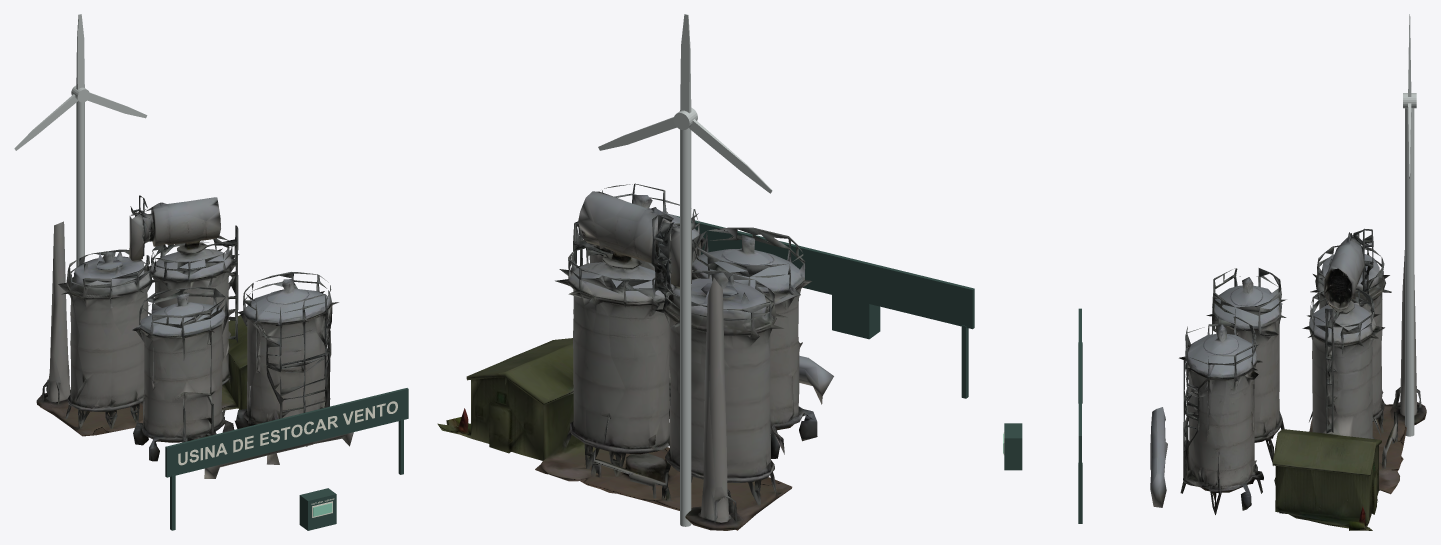
Rendered from secret-wind-plant.glb.
3 renders of one model, left to right at view 1: azimuth 30°, elevation 25°; view 2: azimuth 150°, elevation 25°; view 3: azimuth 270°, elevation 25°, orthographic. The views are drawn at different scales.
Parts seen in each view (by area): view 1: tripo_node_50a28d17-da4a-4947-9054-4a39b0f13449, Usina_Plate, Sign_USINA DE ESTOCAR VENTO, Wind_Mast, Capture_Console, Wind_Blade_0, Wind_Blade_2, Wind_Blade_1; view 2: tripo_node_50a28d17-da4a-4947-9054-4a39b0f13449, Usina_Plate, Wind_Mast, Capture_Console, Wind_Blade_2, Wind_Blade_0, Wind_Blade_1; view 3: tripo_node_50a28d17-da4a-4947-9054-4a39b0f13449, Wind_Mast, Capture_Console, Usina_Plate.
Boxes of the visible parts, x1,y1,x2,y2 form: tripo_node_50a28d17-da4a-4947-9054-4a39b0f13449: (36, 195, 353, 478); Usina_Plate: (165, 388, 408, 477); Sign_USINA DE ESTOCAR VENTO: (178, 401, 397, 465); Wind_Mast: (76, 101, 84, 267); Capture_Console: (299, 488, 336, 530); Wind_Blade_0: (76, 14, 84, 89); Wind_Blade_2: (14, 94, 77, 150); Wind_Blade_1: (87, 92, 147, 118); tripo_node_50a28d17-da4a-4947-9054-4a39b0f13449: (437, 183, 833, 530); Usina_Plate: (673, 215, 974, 329); Wind_Mast: (680, 128, 691, 526); Capture_Console: (832, 295, 880, 339); Wind_Blade_2: (689, 119, 772, 193); Wind_Blade_0: (680, 14, 691, 113); Wind_Blade_1: (598, 117, 676, 150); tripo_node_50a28d17-da4a-4947-9054-4a39b0f13449: (1150, 228, 1426, 530); Wind_Mast: (1405, 108, 1414, 436); Capture_Console: (1004, 423, 1022, 470); Usina_Plate: (1078, 308, 1081, 468).
Size of the model in its own units: 12.5 by 16.91 by 15.48.
5 materials, 1 textured.
